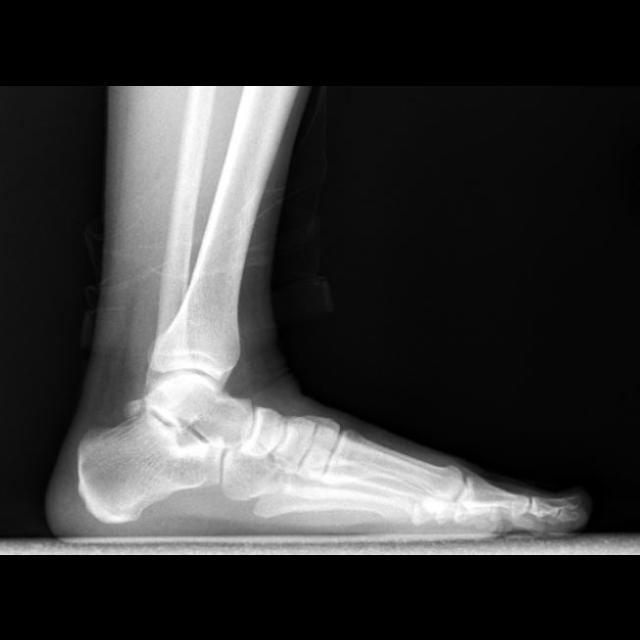a: (77, 409, 214, 523)
b: (241, 406, 283, 455)
c: (325, 430, 464, 517)
